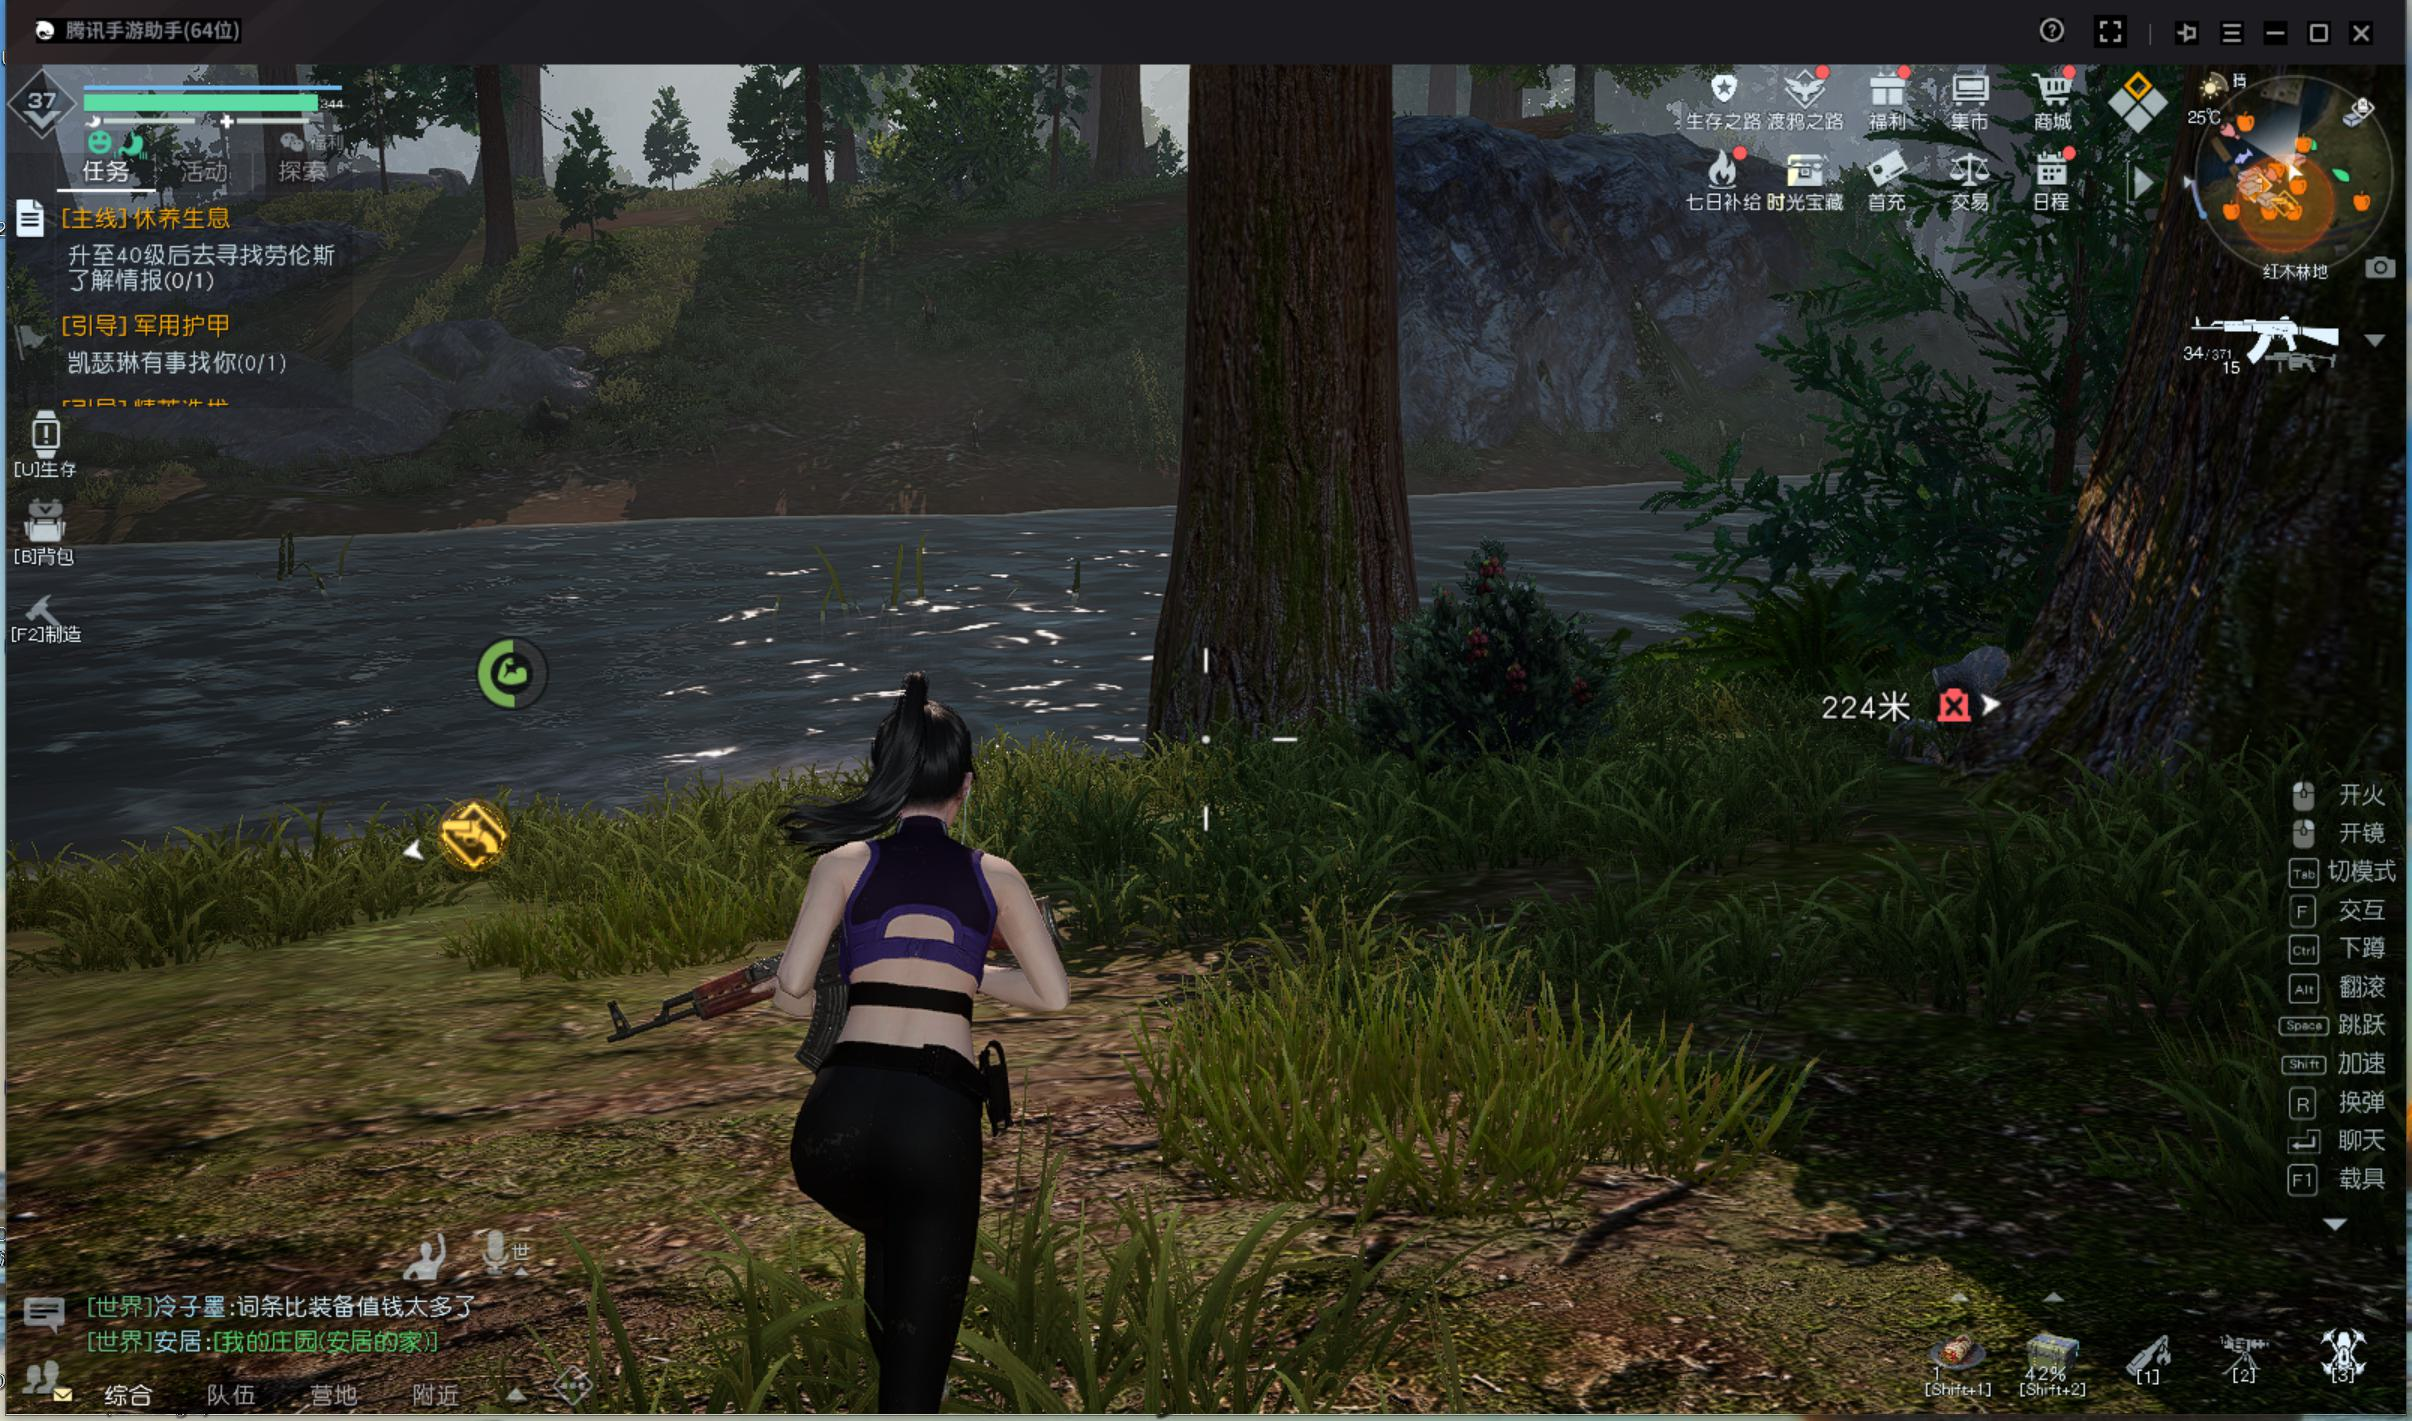stone: (1869, 606, 2021, 766)
tree: (1148, 74, 1429, 765), (463, 83, 519, 267)
